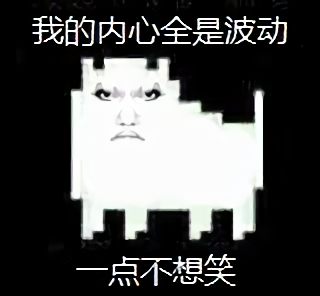dragon: (91, 81, 164, 135)
